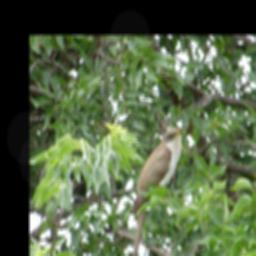Cuckoo: (128, 123, 190, 256)
